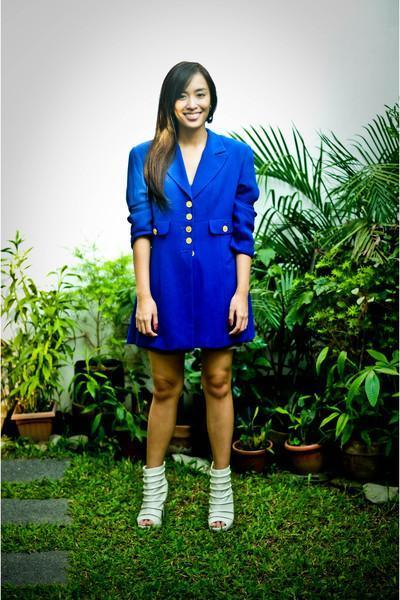dress: (126, 132, 266, 354)
shoe: (137, 461, 233, 529)
